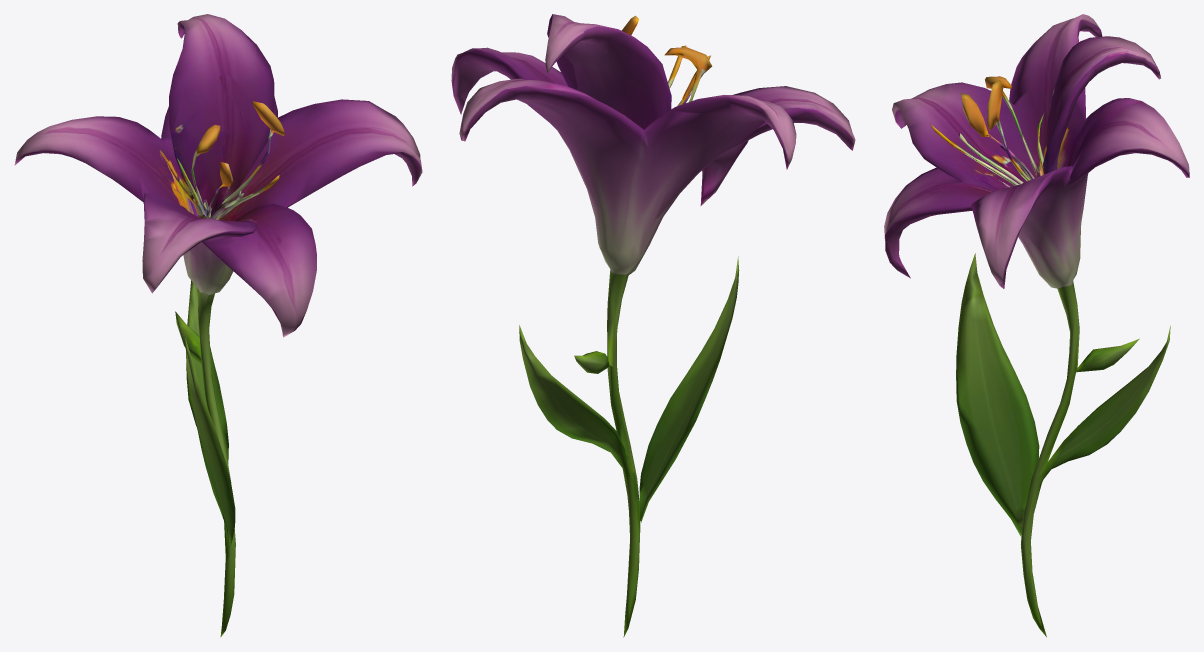
File: 1fixedlily.fbx
The picture shows the model from 3 angles, left to right: view 1: azimuth 30°, elevation 25°; view 2: azimuth 150°, elevation 25°; view 3: azimuth 270°, elevation 25°; orthographic projection. The views are drawn at different scales.
Parts seen in each view (by area): view 1: tripo_node_5ee46b53; view 2: tripo_node_5ee46b53; view 3: tripo_node_5ee46b53.
Boxes of the visible parts, x1=… form: tripo_node_5ee46b53: x1=14, y1=14, x2=422, y2=637; tripo_node_5ee46b53: x1=451, y1=14, x2=855, y2=637; tripo_node_5ee46b53: x1=884, y1=14, x2=1189, y2=637.
Size of the model in its own units: 63.84 by 100 by 46.13.
1 material, 1 textured.
